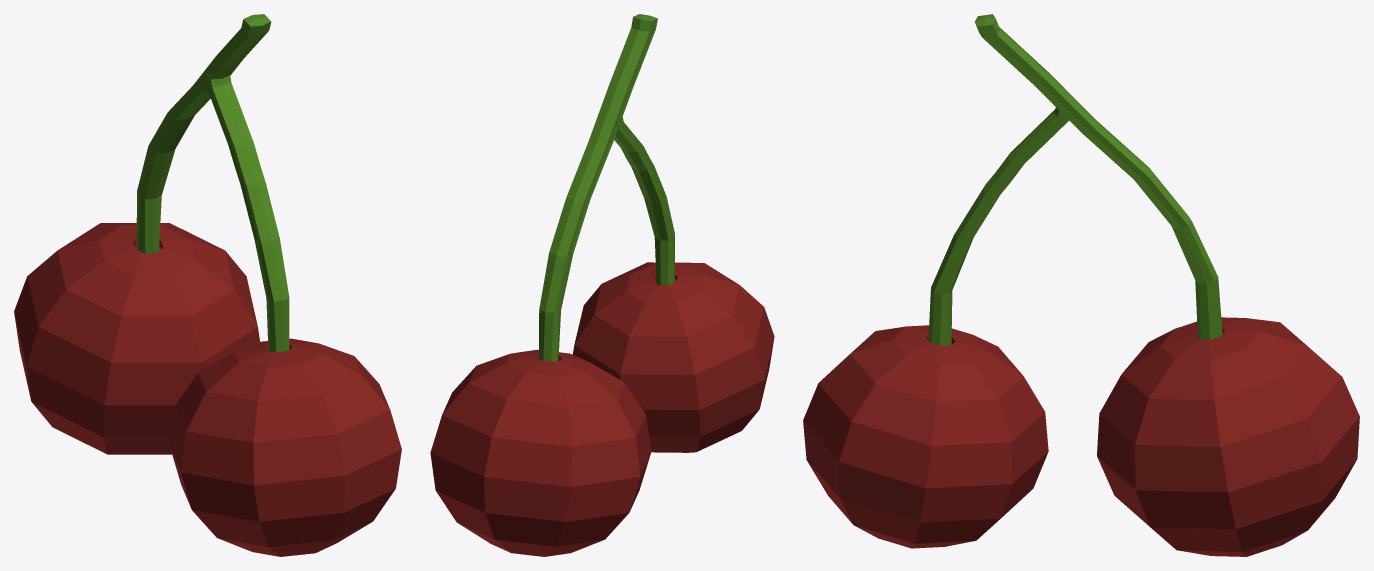
Rendered from Cereza.fbx.
3 views of the same model, side by side, from view 1: azimuth 30°, elevation 25°; view 2: azimuth 150°, elevation 25°; view 3: azimuth 270°, elevation 25° (orthographic). The views are drawn at different scales.
Visible parts, largest first — view 1: Sphere, Sphere.001; view 2: Sphere, Sphere.001; view 3: Sphere, Sphere.001.
Boxes of the visible parts, x1,y1,x2,y2 form: Sphere: (14,14,271,454); Sphere.001: (169,72,401,556); Sphere: (430,14,657,556); Sphere.001: (572,114,774,452); Sphere: (975,14,1359,556); Sphere.001: (803,107,1068,548).
Bounding box in the file's own units: 200 × 435 × 418.
